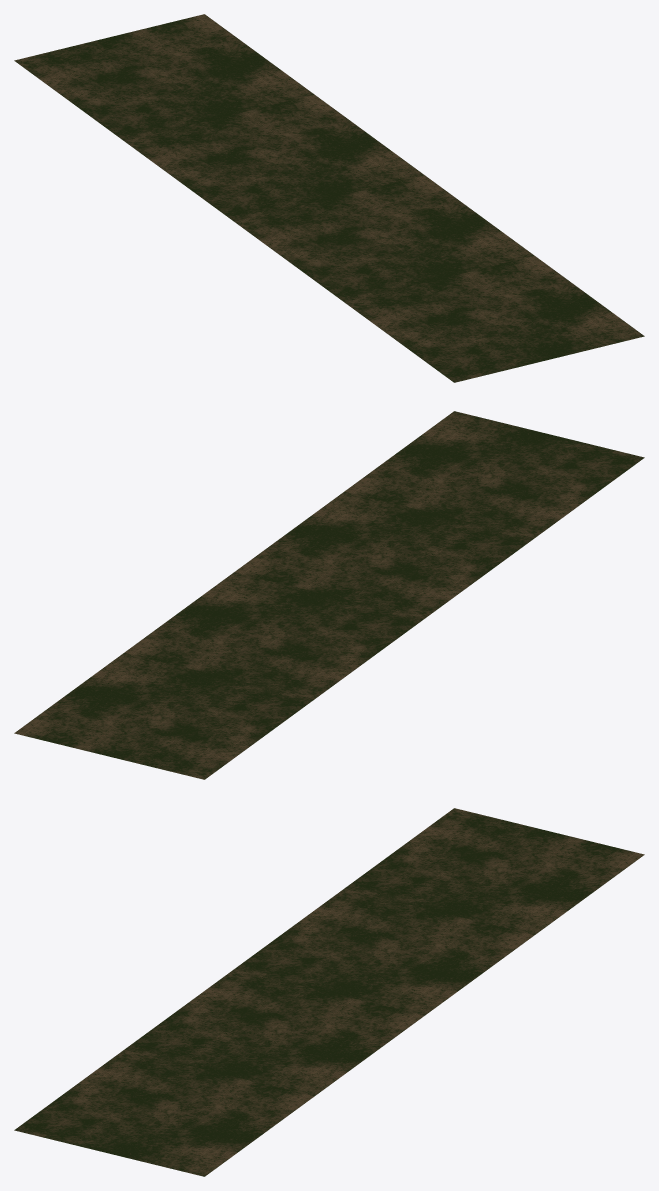
File: shrine_floor_1_4.fbx
3 renders of one model, top to bottom at view 1: azimuth 30°, elevation 25°; view 2: azimuth 150°, elevation 25°; view 3: azimuth 330°, elevation 25°, orthographic.
Parts seen in each view (by area): view 1: shrine_floor_3; view 2: shrine_floor_3; view 3: shrine_floor_3.
Part boxes in pixels (bbox=[...]): shrine_floor_3: bbox=[14, 14, 644, 382]; shrine_floor_3: bbox=[14, 411, 644, 779]; shrine_floor_3: bbox=[14, 808, 644, 1176].
Size of the model in its own units: 330 by 0 by 1320.
Materials: 1 (1 with a texture image).
